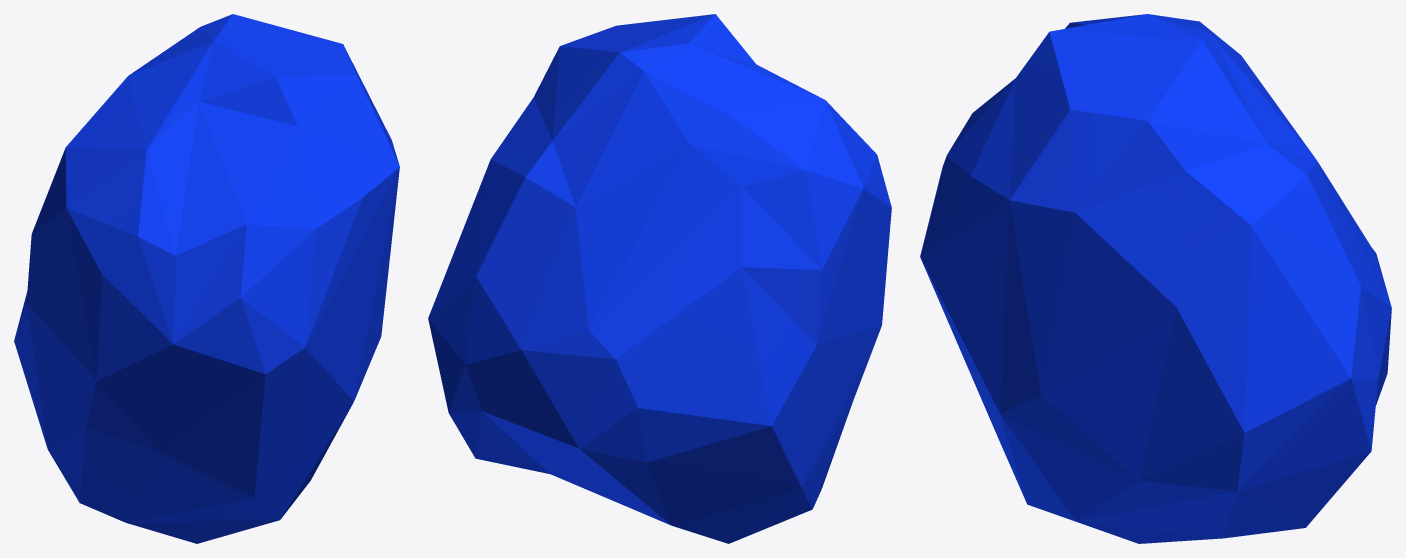
File: SM_emissive_rock_07.fbx
The picture shows the model from 3 angles, left to right: view 1: azimuth 30°, elevation 25°; view 2: azimuth 150°, elevation 25°; view 3: azimuth 270°, elevation 25°; orthographic projection. The views are drawn at different scales.
Visible parts, largest first — view 1: emissive_rock_07; view 2: emissive_rock_07; view 3: emissive_rock_07.
Part boxes in pixels (left/top/right/bottom): emissive_rock_07: left=14, top=14, right=399, bottom=543; emissive_rock_07: left=428, top=14, right=891, bottom=543; emissive_rock_07: left=920, top=14, right=1391, bottom=543.
Size of the model in its own units: 113 by 144 by 117.
